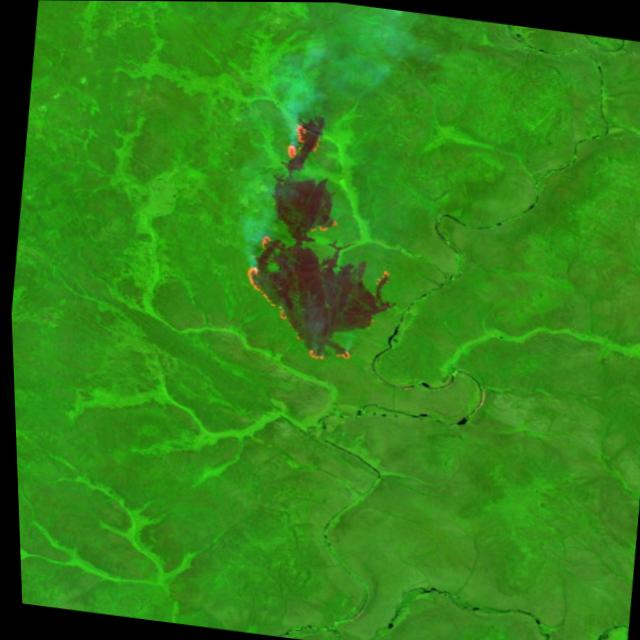fire: (224, 110, 381, 373)
